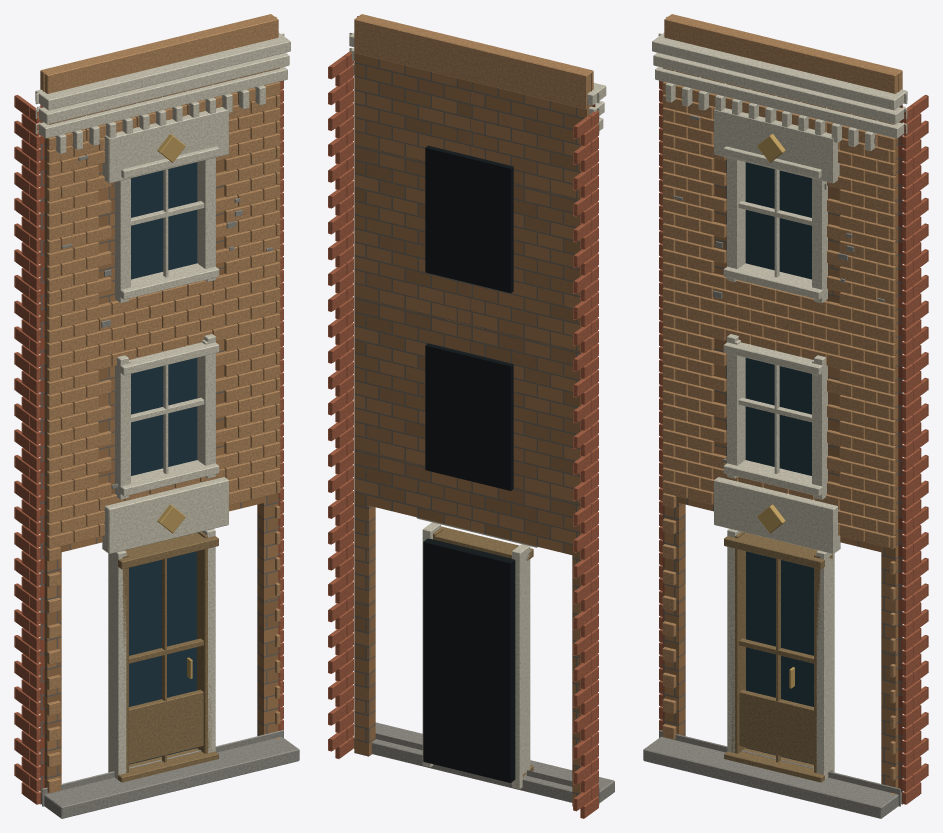
The model's file is CLSTGA18_lod0.glb.
3 views of the same model, side by side, from view 1: azimuth 30°, elevation 25°; view 2: azimuth 150°, elevation 25°; view 3: azimuth 330°, elevation 25° (orthographic).
Visible parts, largest first — view 1: CLSTGA18_FRONT_LOD0; view 2: CLSTGA18_FRONT_LOD0; view 3: CLSTGA18_FRONT_LOD0.
Part boxes in pixels (box(x1,y1,x2,y2)): CLSTGA18_FRONT_LOD0: box(14, 14, 299, 818); CLSTGA18_FRONT_LOD0: box(328, 14, 614, 818); CLSTGA18_FRONT_LOD0: box(643, 14, 928, 818).
Size of the model in its own units: 3.44 by 9.66 by 1.02.
Materials: 15 (12 with a texture image).
